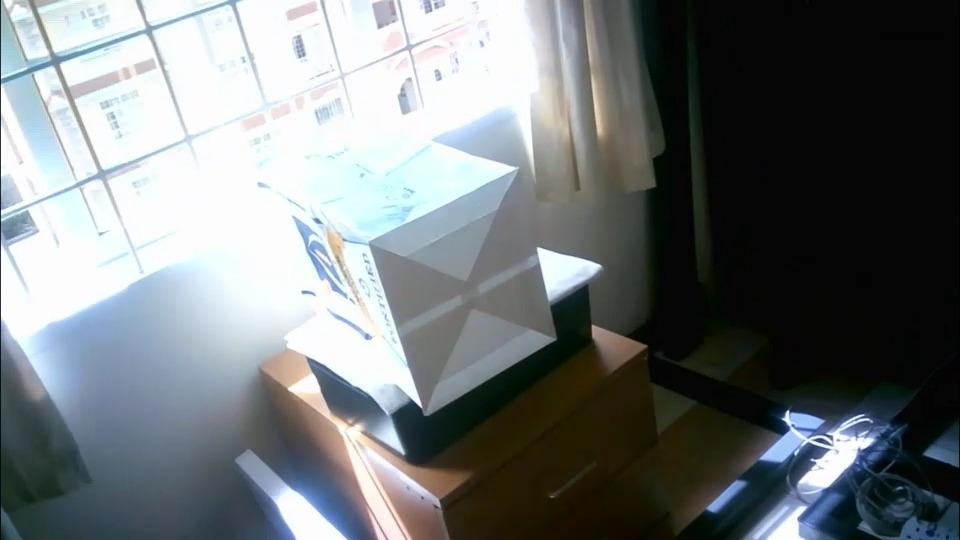wheat_flour_blue_label: (254, 127, 553, 416)
